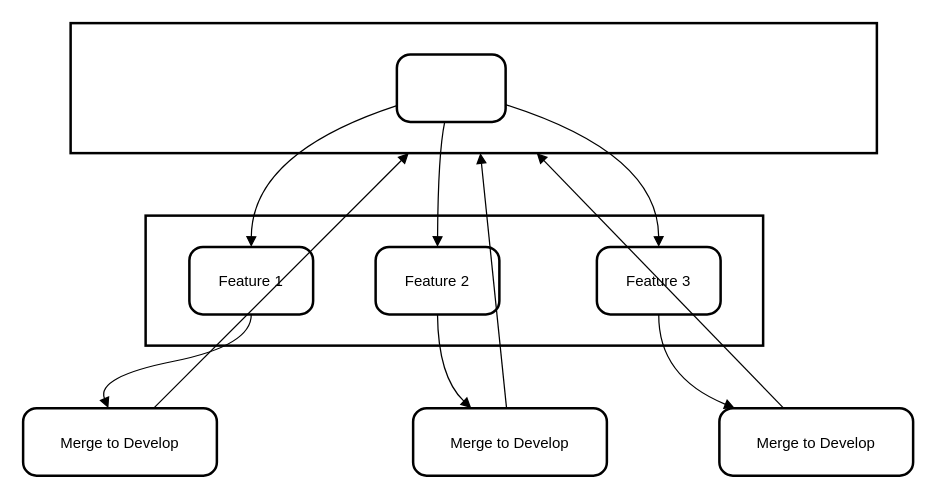
Some shapes in this 935 by 498 pixel diagram are drawn without their labels. The shapes that lost their labels are listed below. From the top down, each one's box as (x1, y1, x2, y2) in pixels, then its label:
(395, 52, 506, 122): Develop
(69, 21, 878, 154): master
(144, 214, 764, 346): feature_branches
